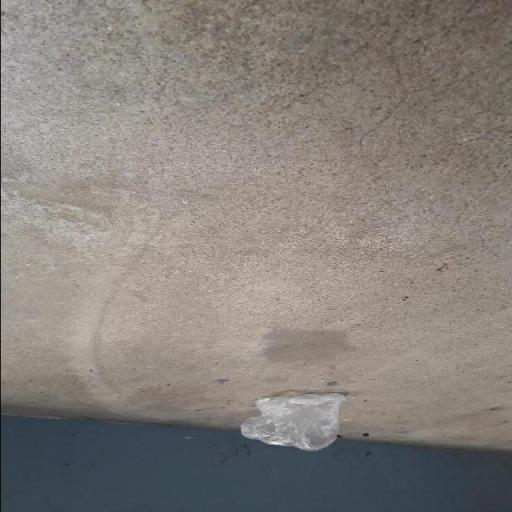plastic-bag: (236, 392, 348, 454)
